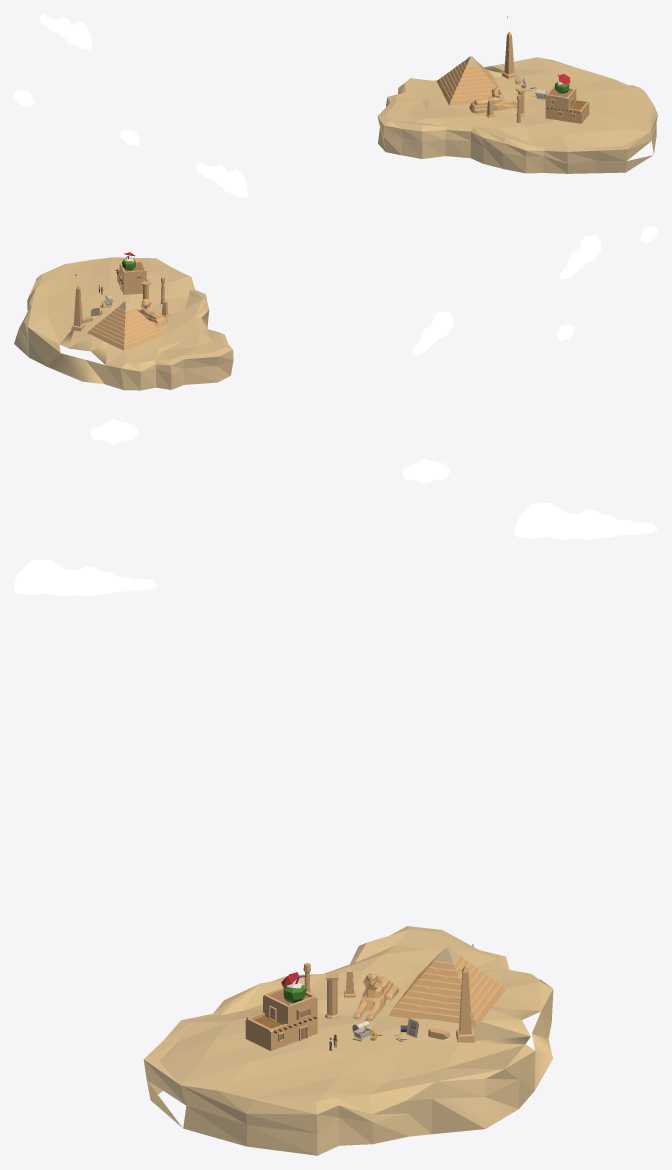
The model's file is Country_Egypt.glb.
3 views of the same model, one above another, from view 1: azimuth 30°, elevation 25°; view 2: azimuth 150°, elevation 25°; view 3: azimuth 270°, elevation 25° (orthographic). The views are drawn at different scales.
Visible parts, largest first — view 1: country.001, newsBox, foodBox, cloud-long.002, cloud-long.001, egypt-obelisk-old.001; view 2: country.001, newsBox, foodBox, cloud-long.002, cloud-long.001, egypt-obelisk-old.001; view 3: country.001, newsBox, foodBox, cloud-long.002, cloud-long.001.
Boxes of the visible parts, x1,y1,x2,y2 form: country.001: [377, 57, 657, 173]; newsBox: [437, 56, 517, 113]; foodBox: [545, 74, 589, 123]; cloud-long.002: [195, 162, 247, 197]; cloud-long.001: [39, 14, 91, 49]; egypt-obelisk-old.001: [502, 32, 516, 78]; country.001: [14, 257, 233, 390]; newsBox: [87, 298, 168, 350]; foodBox: [115, 252, 147, 294]; cloud-long.002: [560, 235, 601, 279]; cloud-long.001: [412, 311, 453, 355]; egypt-obelisk-old.001: [71, 285, 84, 331]; country.001: [143, 926, 553, 1155]; newsBox: [353, 947, 505, 1026]; foodBox: [245, 972, 317, 1050]; cloud-long.002: [14, 559, 156, 596]; cloud-long.001: [515, 503, 657, 539].
Bounding box in the file's own units: 6.46 × 1.81 × 3.75.
